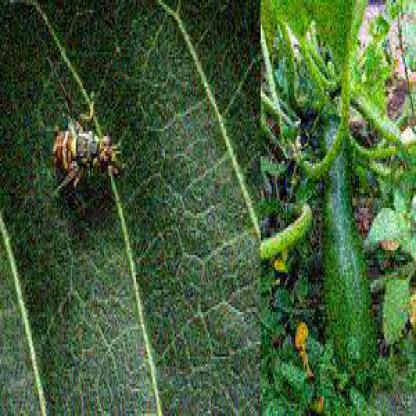fruit fly: (51, 63, 124, 212)
